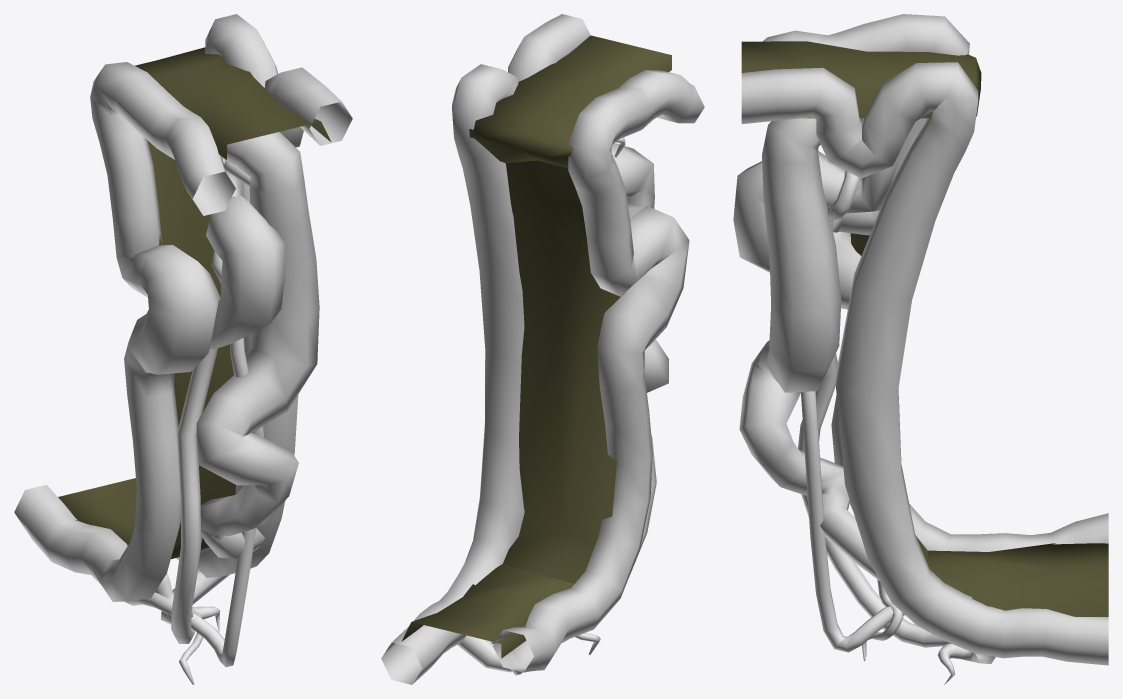
File: Bstep_v2.fbx
3 renders of one model, left to right at view 1: azimuth 30°, elevation 25°; view 2: azimuth 150°, elevation 25°; view 3: azimuth 270°, elevation 25°, orthographic. The views are drawn at different scales.
Visible parts, largest first — view 1: NurbsPath.008, DummyPlane.012, DummyPlane.vertical.B; view 2: NurbsPath.008, DummyPlane.vertical.B, DummyPlane.012; view 3: NurbsPath.008, DummyPlane.012.
Part boxes in pixels (<box>): NurbsPath.008: <box>14,14,352,684</box>; DummyPlane.012: <box>58,47,331,545</box>; DummyPlane.vertical.B: <box>147,140,235,558</box>; NurbsPath.008: <box>381,14,704,684</box>; DummyPlane.vertical.B: <box>503,160,624,583</box>; DummyPlane.012: <box>401,35,671,658</box>; NurbsPath.008: <box>733,14,1108,684</box>; DummyPlane.012: <box>741,41,1108,616</box>.
Bounding box in the file's own units: 117 × 381 × 205.
